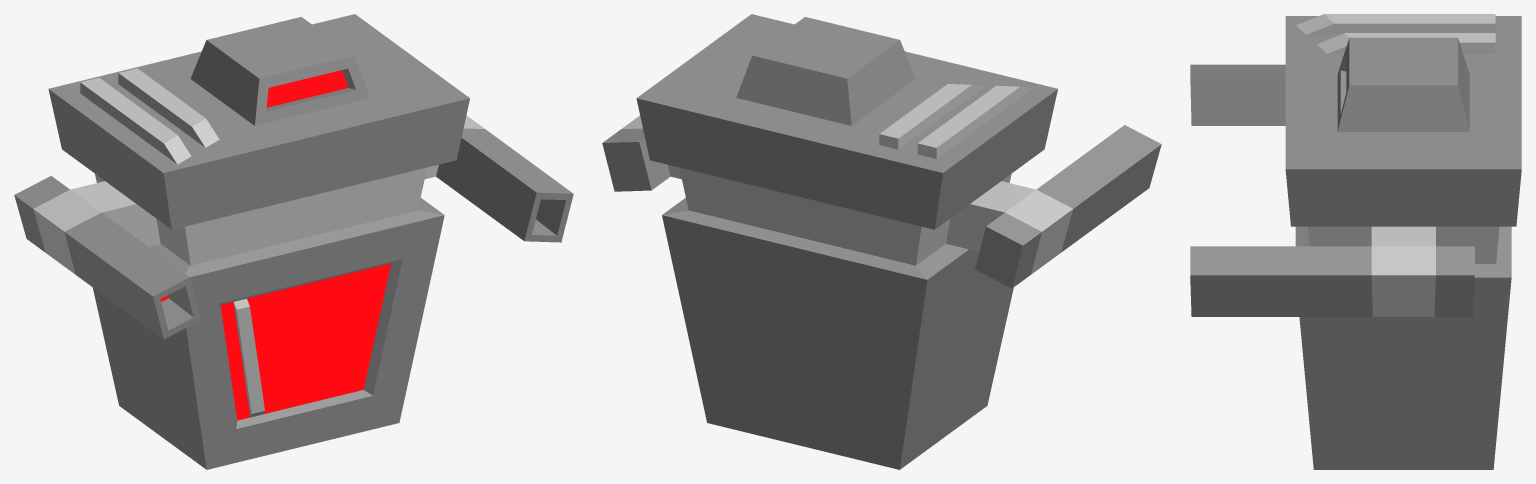
Rendered from BasicEnemy.fbx.
3 renders of one model, left to right at view 1: azimuth 30°, elevation 25°; view 2: azimuth 150°, elevation 25°; view 3: azimuth 270°, elevation 25°, orthographic. The views are drawn at different scales.
Visible parts, largest first — view 1: Cube; view 2: Cube; view 3: Cube.
Boxes of the visible parts, x1,y1,x2,y2 form: Cube: (14, 14, 573, 469); Cube: (602, 14, 1161, 469); Cube: (1190, 14, 1521, 469).
Bounding box in the file's own units: 275 × 225 × 183.
